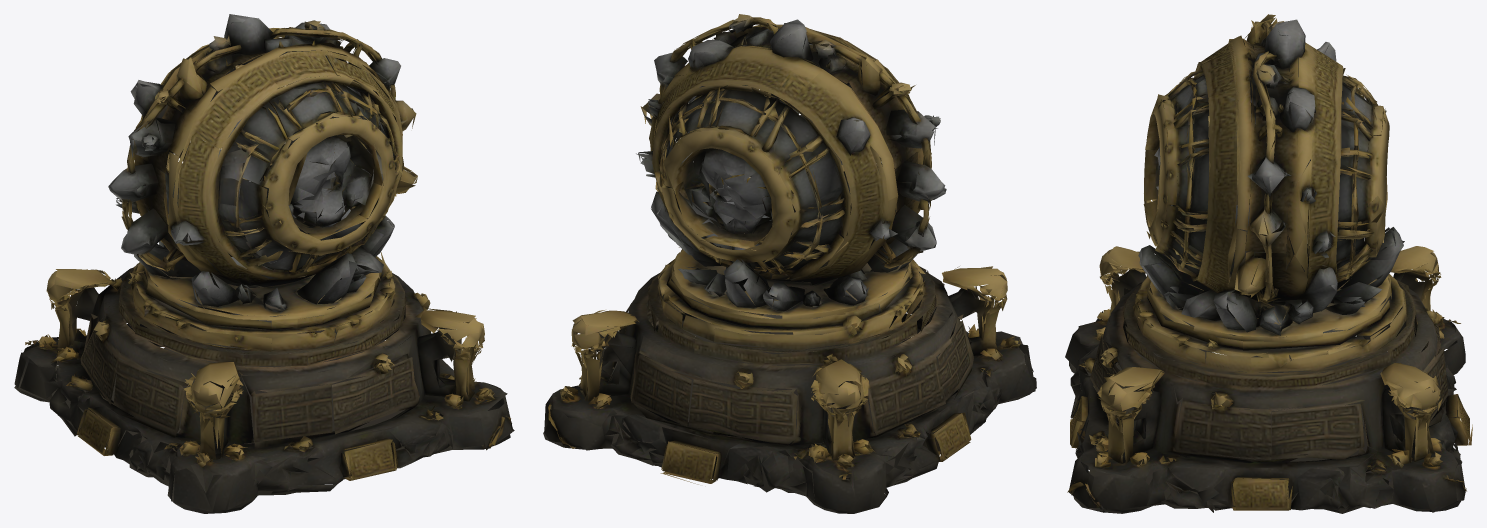
The model's file is ch10_heart_vault_core_LOD1.glb.
3 renders of one model, left to right at view 1: azimuth 30°, elevation 25°; view 2: azimuth 150°, elevation 25°; view 3: azimuth 270°, elevation 25°, orthographic. The views are drawn at different scales.
Visible parts, largest first — view 1: tripo_node_1f63250c-70a3-4314-afd8-5a8f577c92ea; view 2: tripo_node_1f63250c-70a3-4314-afd8-5a8f577c92ea; view 3: tripo_node_1f63250c-70a3-4314-afd8-5a8f577c92ea.
Boxes of the visible parts, x1,y1,x2,y2 form: tripo_node_1f63250c-70a3-4314-afd8-5a8f577c92ea: (14, 14, 514, 513); tripo_node_1f63250c-70a3-4314-afd8-5a8f577c92ea: (543, 14, 1036, 513); tripo_node_1f63250c-70a3-4314-afd8-5a8f577c92ea: (1065, 14, 1472, 513).
Bounding box in the file's own units: 0.904 × 1.01 × 0.9158.
1 material, 1 textured.
